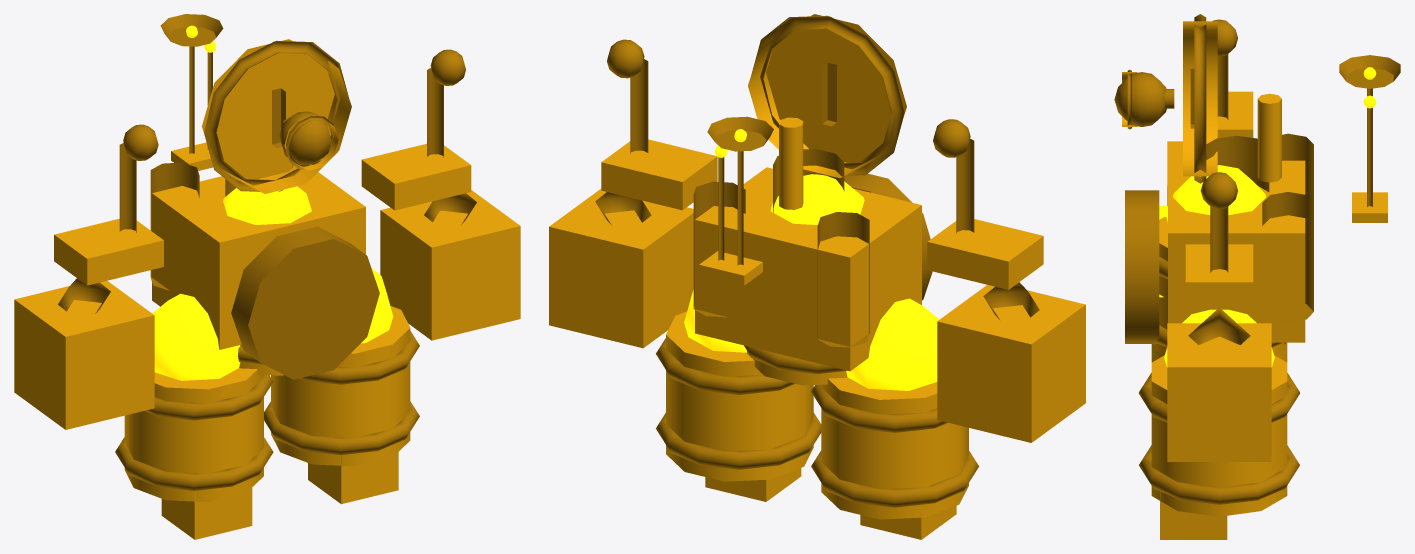
File: golem_093.glb
The picture shows the model from 3 angles, left to right: view 1: azimuth 30°, elevation 25°; view 2: azimuth 150°, elevation 25°; view 3: azimuth 270°, elevation 25°; orthographic projection. The views are drawn at different scales.
Visible parts, largest first — view 1: Body, Detail, Glow; view 2: Body, Detail, Glow; view 3: Body, Detail, Glow.
Part boxes in pixels (x1,y1,x2,y2): Body: (14, 39, 520, 539); Detail: (58, 14, 476, 490); Glow: (152, 25, 393, 380); Body: (549, 14, 1085, 539); Detail: (595, 15, 1039, 507); Glow: (684, 129, 939, 390); Body: (1122, 21, 1387, 539); Detail: (1114, 14, 1400, 504); Glow: (1159, 67, 1376, 367).
Size of the model in its own units: 1.45 by 1.4 by 0.7786.
